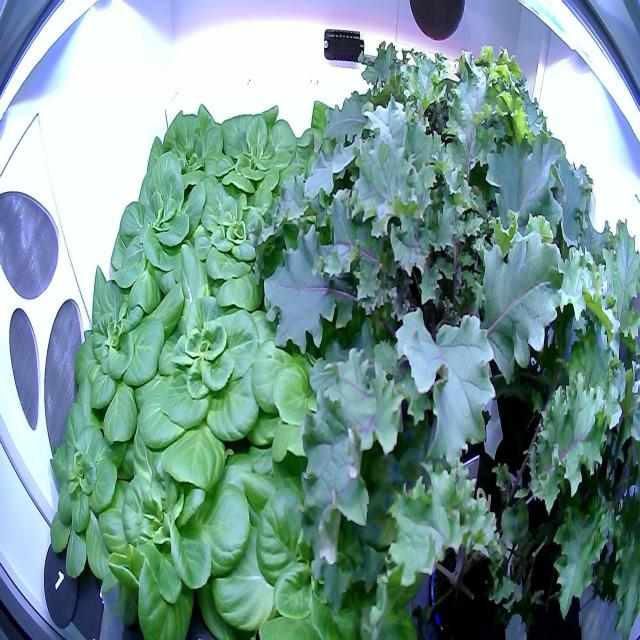young: (130, 251, 296, 497), (97, 397, 256, 639), (214, 449, 411, 639), (248, 289, 398, 470), (70, 252, 187, 455), (106, 134, 231, 318), (45, 391, 155, 583), (178, 169, 288, 319), (138, 89, 247, 232), (200, 94, 310, 227)
